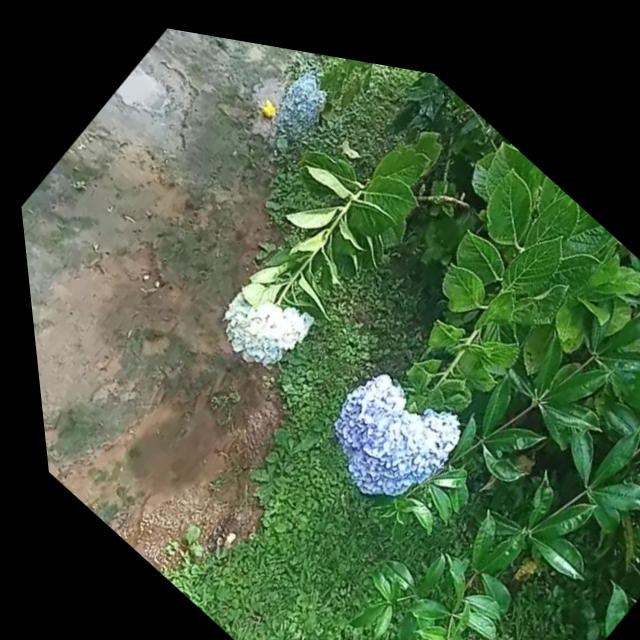Flower: (288, 329, 470, 526), (195, 252, 319, 385), (264, 50, 340, 133)
